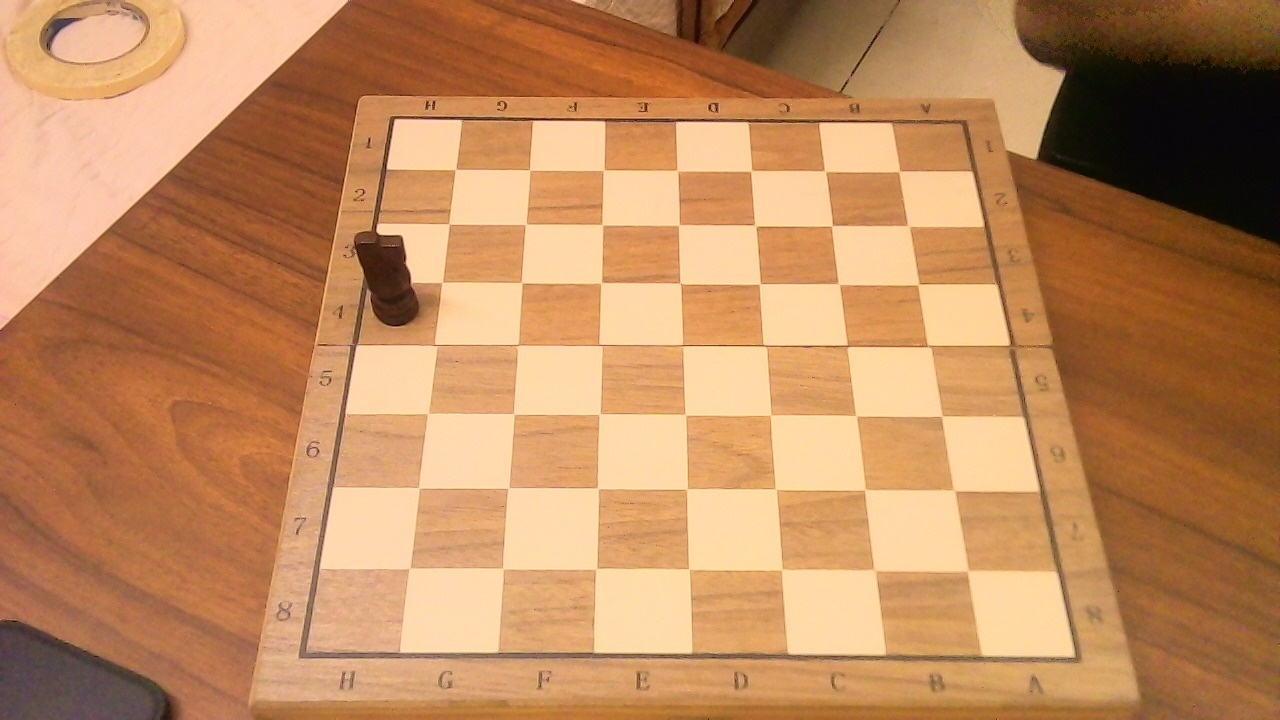n: (347, 219, 430, 329)
